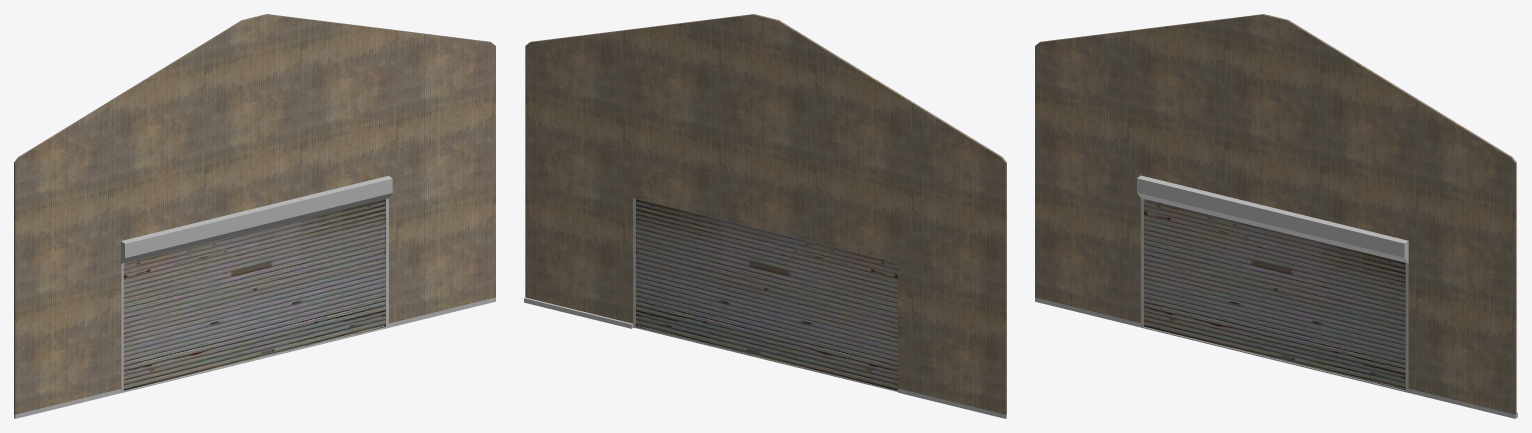
Rendered from Factory_Small_03a.fbx.
3 views of the same model, side by side, from view 1: azimuth 30°, elevation 25°; view 2: azimuth 150°, elevation 25°; view 3: azimuth 330°, elevation 25° (orthographic).
Visible parts, largest first — view 1: Factory_Small_03a; view 2: Factory_Small_03a; view 3: Factory_Small_03a.
Boxes of the visible parts, x1,y1,x2,y2 form: Factory_Small_03a: (14,14,495,418); Factory_Small_03a: (524,14,1006,418); Factory_Small_03a: (1035,14,1517,418).
Bounding box in the file's own units: 11.6 × 7.9 × 0.2646.
